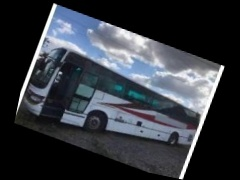bus: (13, 37, 213, 172)
